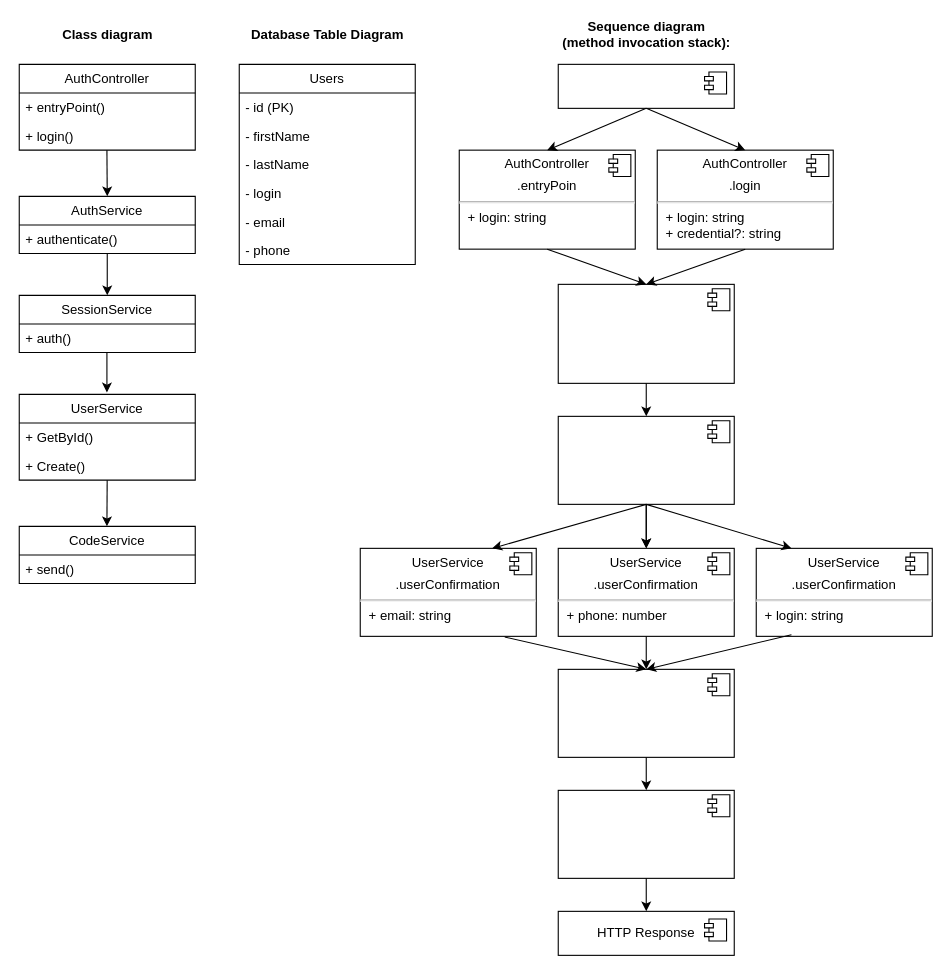
This 952x975 diagram has some shape labels left out. Here are the shapes that lost their labels. From the top down, the centre of each, then its label:
At point (645, 85): "HTTP Request".
At point (645, 333): "AuthController .authenticate + login: string + credential?: string".
At point (645, 459): "UserService .getById + id: number".
At point (645, 712): "SessionService .auth + user: IUser".
At point (645, 833): "CodeService .send + login: string".
